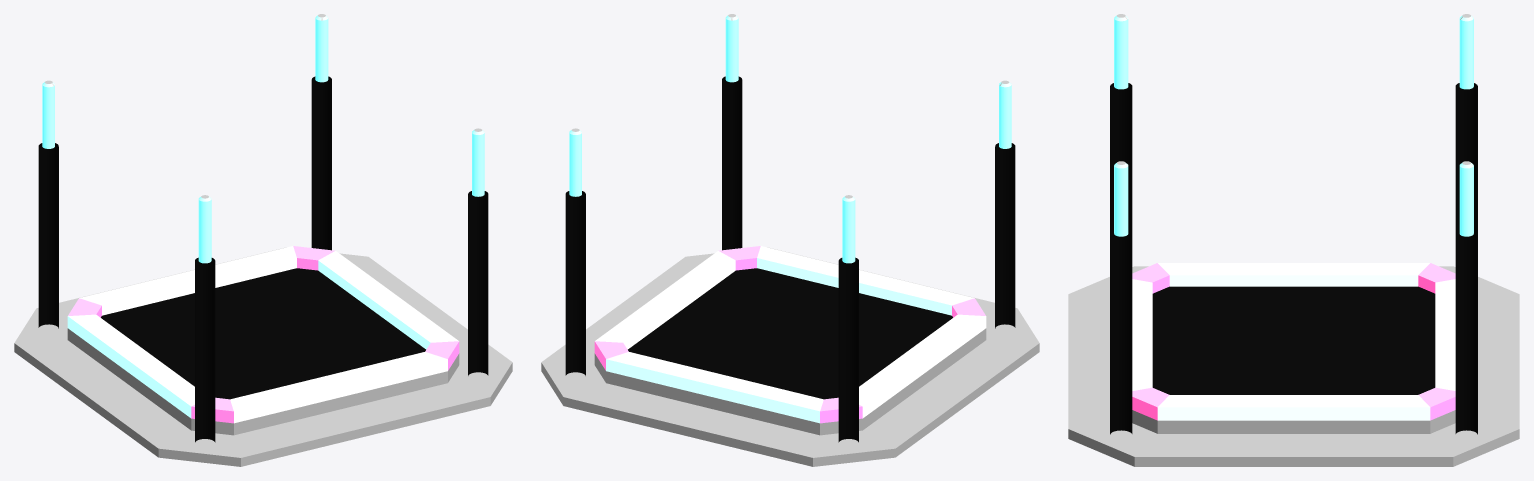
The model's file is Launcher.fbx.
3 views of the same model, side by side, from view 1: azimuth 30°, elevation 25°; view 2: azimuth 150°, elevation 25°; view 3: azimuth 270°, elevation 25° (orthographic). The views are drawn at different scales.
Visible parts, largest first — view 1: Cube; view 2: Cube; view 3: Cube.
Boxes of the visible parts, box(x1,y1,x2,y2) form: Cube: box(14, 14, 512, 466); Cube: box(541, 14, 1039, 466); Cube: box(1068, 14, 1519, 466).
Bounding box in the file's own units: 2.64 × 1.82 × 2.64.
